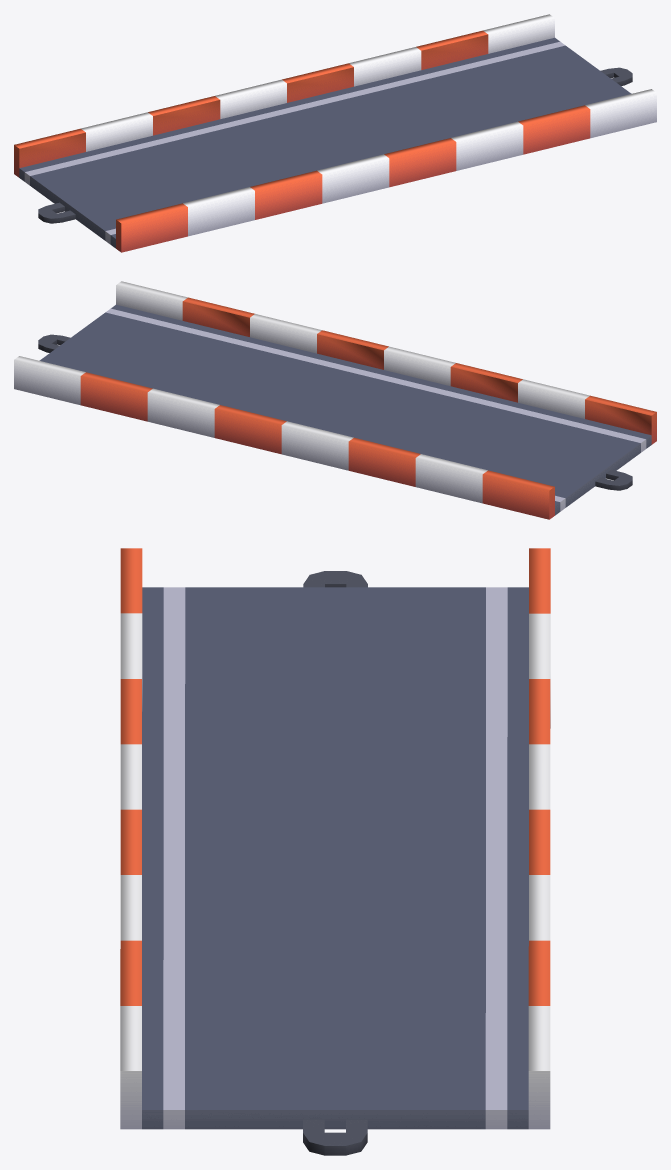
Rendered from track-road-wide-straight.023_lev1.glb.
3 views of the same model, one above another, from view 1: azimuth 30°, elevation 25°; view 2: azimuth 150°, elevation 25°; view 3: azimuth 270°, elevation 25° (orthographic). The views are drawn at different scales.
Visible parts, largest first — view 1: track-road-wide-straight.023_lev1; view 2: track-road-wide-straight.023_lev1; view 3: track-road-wide-straight.023_lev1.
Boxes of the visible parts, left/top/right/bottom form: track-road-wide-straight.023_lev1: left=14, top=14, right=656, bottom=252; track-road-wide-straight.023_lev1: left=14, top=281, right=656, bottom=519; track-road-wide-straight.023_lev1: left=120, top=548, right=550, bottom=1155.
Size of the model in its own units: 6.33 by 0.3 by 2.
1 material, 1 textured.
